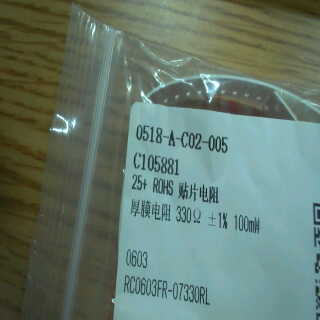330R: (175, 203, 202, 224)
